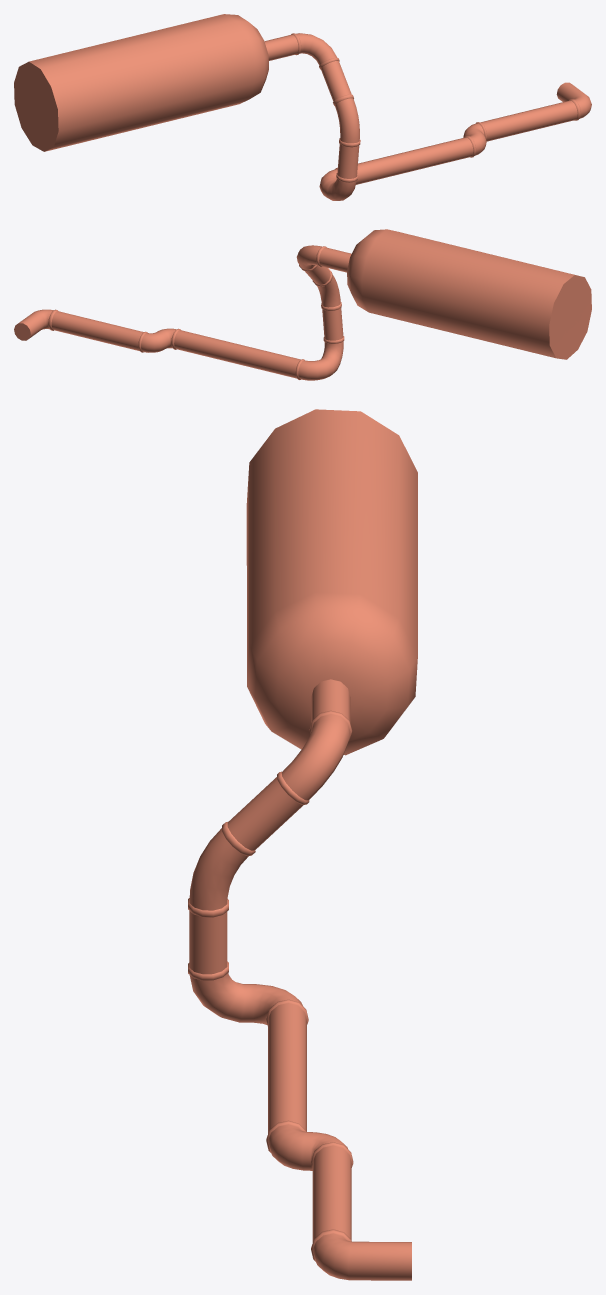
File: SP_House06_TopCylinder02.fbx
3 renders of one model, top to bottom at view 1: azimuth 30°, elevation 25°; view 2: azimuth 150°, elevation 25°; view 3: azimuth 270°, elevation 25°, orthographic. The views are drawn at different scales.
Parts seen in each view (by area): view 1: SP_House06_TopCylinder02; view 2: SP_House06_TopCylinder02; view 3: SP_House06_TopCylinder02.
Boxes of the visible parts, x1,y1,x2,y2 form: SP_House06_TopCylinder02: [14, 14, 591, 200]; SP_House06_TopCylinder02: [14, 229, 591, 380]; SP_House06_TopCylinder02: [188, 409, 417, 1280].
Size of the model in its own units: 4.14 by 1.31 by 0.77.
